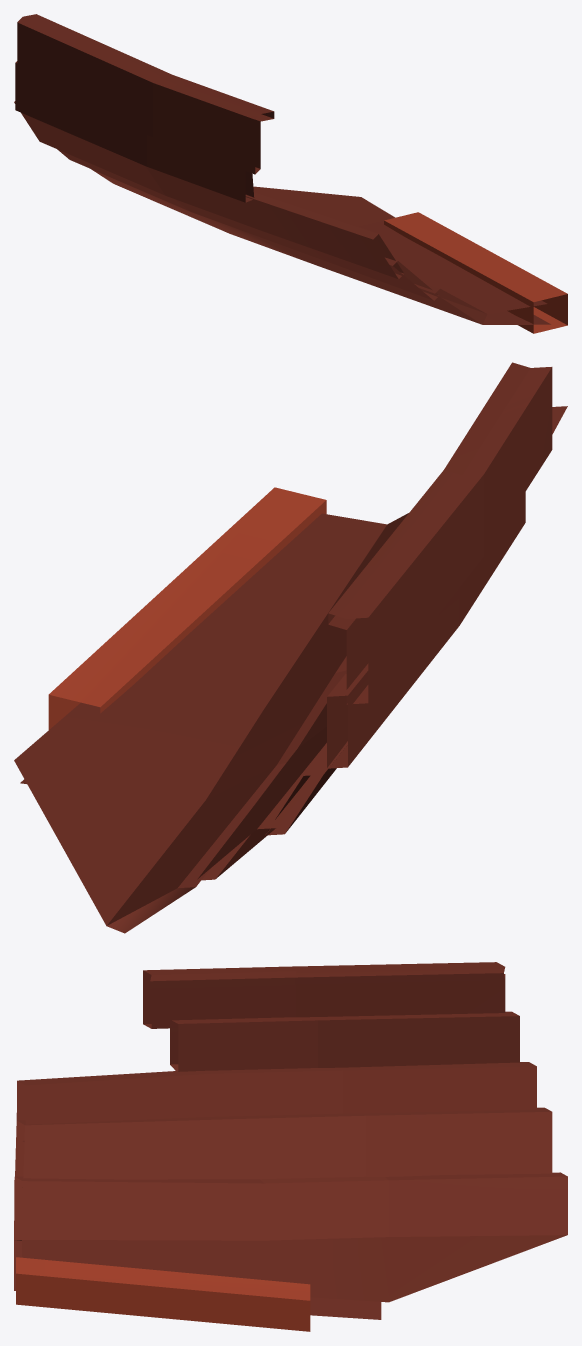
Rendered from BoatPart5.fbx.
3 renders of one model, top to bottom at view 1: azimuth 30°, elevation 25°; view 2: azimuth 150°, elevation 25°; view 3: azimuth 270°, elevation 25°, orthographic. The views are drawn at different scales.
Visible parts, largest first — view 1: Boat.004; view 2: Boat.004; view 3: Boat.004.
Part boxes in pixels (x1,y1,x2,y2): Boat.004: (14, 14, 567, 333); Boat.004: (14, 362, 567, 933); Boat.004: (14, 962, 567, 1331).
Size of the model in its own units: 71.38 by 54.94 by 114.
